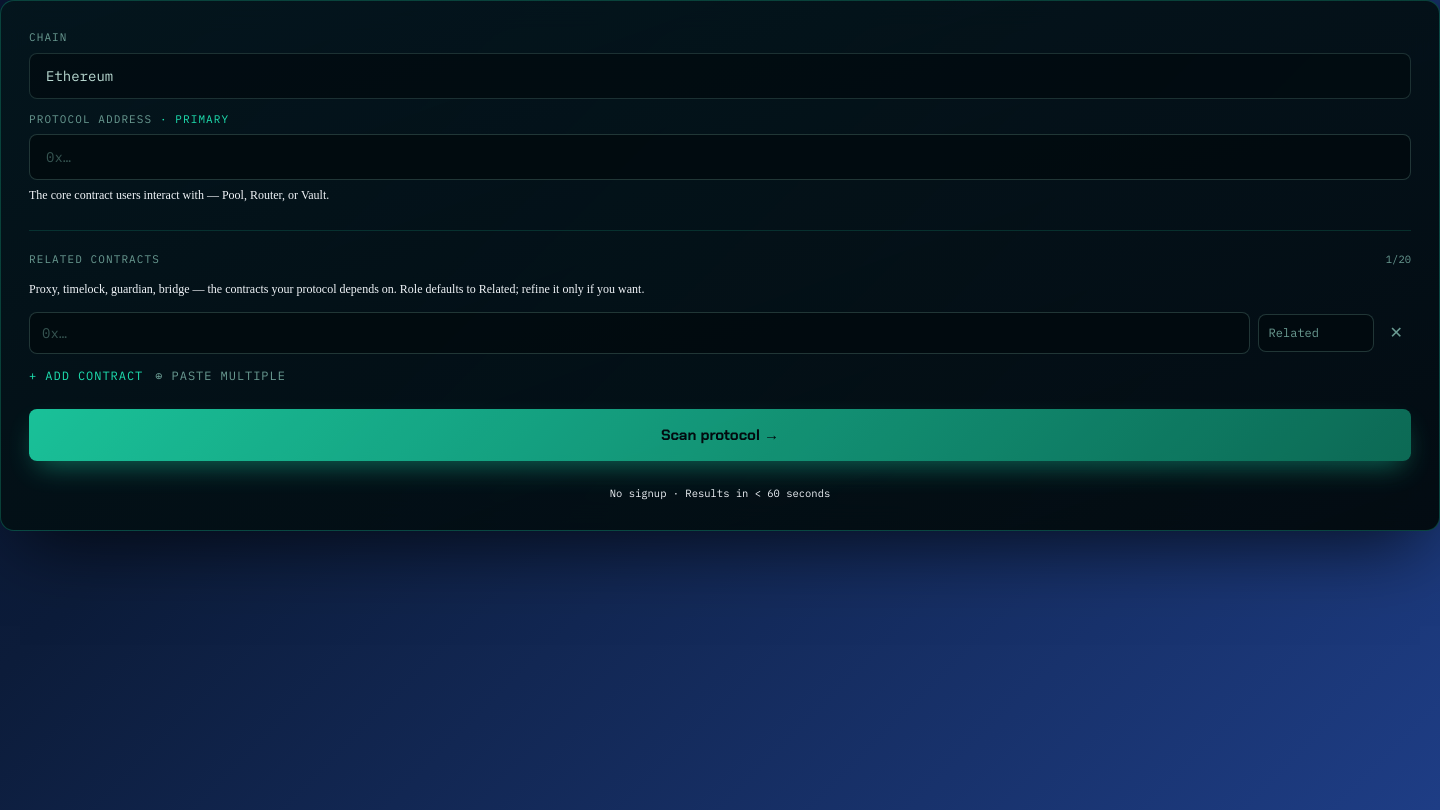
MultiContractForm — validation + interaction › adds and removes related rows, with the count reflecting it
This screenshot has width=1440, height=810.
Expected: the number of fields named "Related contract address" is 1, [29,312,1250,354]
Expected: the text "1/20" is shown, [1386,251,1411,268]
Click the button "+ add contract".
click(86, 375)  # box [29,366,143,385]
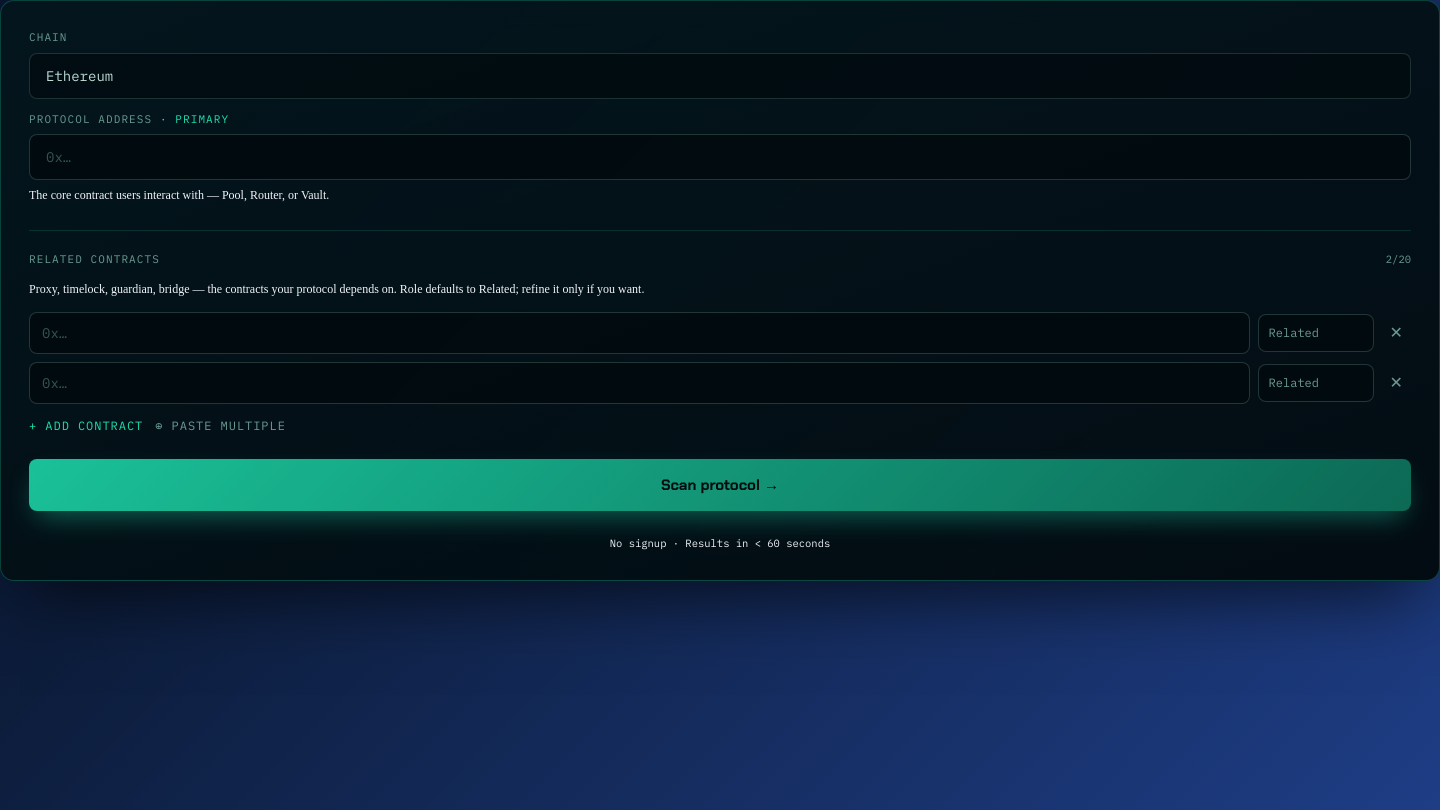
Expected: the number of fields named "Related contract address" is 2, [29,312,1250,354]; [29,362,1250,404]
Expected: the text "2/20" is shown, [1386,251,1411,268]
Click the button named "remove contract".
click(1396, 333)  # box [1382,312,1411,354]
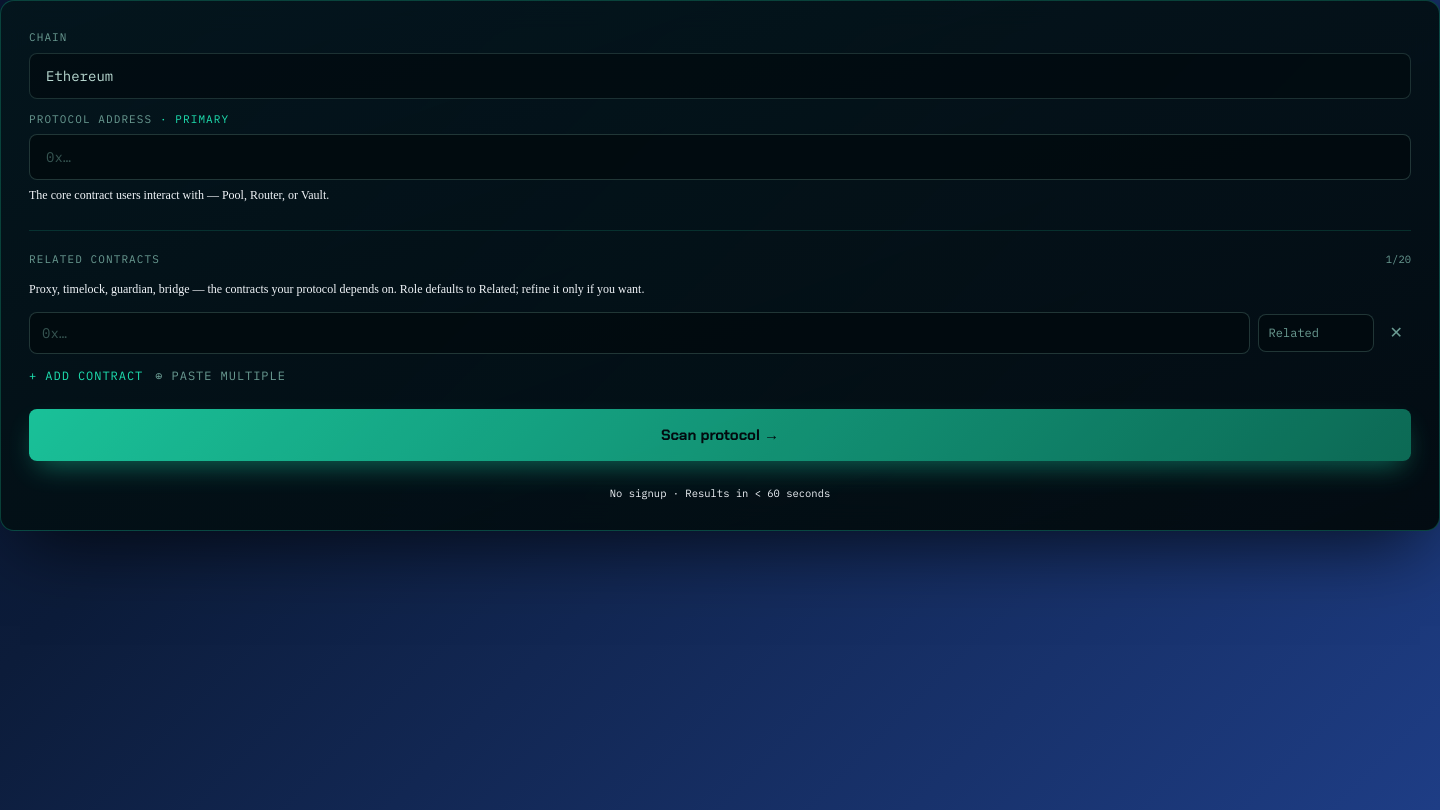
Expected: the number of fields named "Related contract address" is 1, [29,312,1250,354]
